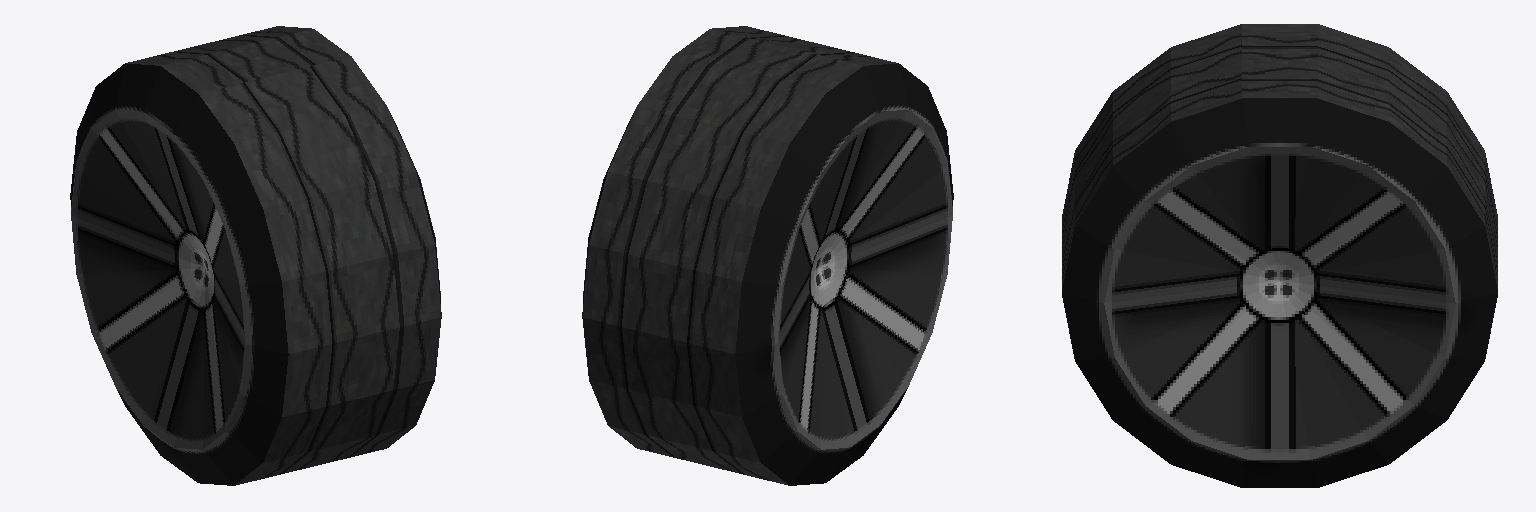
3 views of the same model, side by side, from view 1: azimuth 30°, elevation 25°; view 2: azimuth 150°, elevation 25°; view 3: azimuth 270°, elevation 25° (orthographic).
Parts seen in each view (by area): view 1: wheel_Cylinder01x; view 2: wheel_Cylinder01x; view 3: wheel_Cylinder01x.
Part boxes in pixels (x1,y1,x2,y2): wheel_Cylinder01x: (70, 26, 441, 485); wheel_Cylinder01x: (582, 26, 953, 485); wheel_Cylinder01x: (1062, 24, 1497, 487).
Bounding box in the file's own units: 30.68 × 58.78 × 59.69.
1 materials, 1 textured.